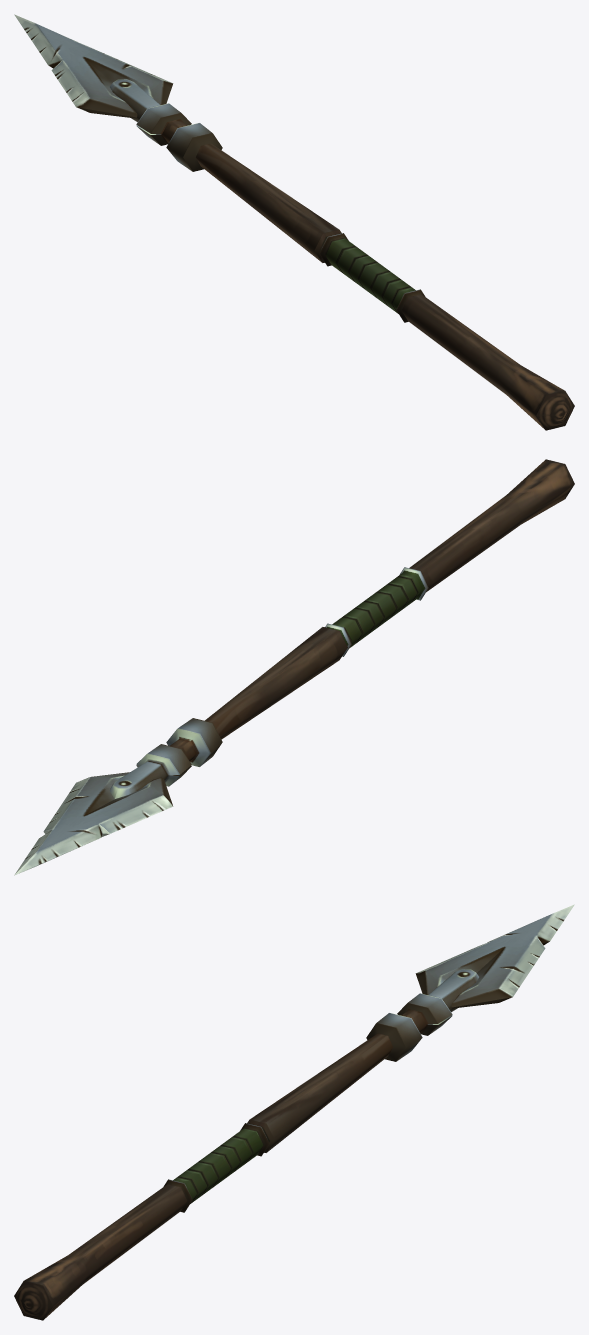
The model's file is Spear07.fbx.
The picture shows the model from 3 angles, top to bottom: view 1: azimuth 30°, elevation 25°; view 2: azimuth 150°, elevation 25°; view 3: azimuth 330°, elevation 25°; orthographic projection.
Parts seen in each view (by area): view 1: Spear07_el2, Spear07_el1; view 2: Spear07_el2, Spear07_el1; view 3: Spear07_el2, Spear07_el1.
Boxes of the visible parts, x1=… form: Spear07_el2: x1=110, y1=79, x2=574, y2=430; Spear07_el1: x1=14, y1=14, x2=173, y2=118; Spear07_el2: x1=109, y1=459, x2=574, y2=798; Spear07_el1: x1=14, y1=772, x2=173, y2=875; Spear07_el2: x1=14, y1=969, x2=478, y2=1320; Spear07_el1: x1=415, y1=904, x2=574, y2=1008.
Size of the model in its own units: 0.2732 by 0.0942 by 2.66.
